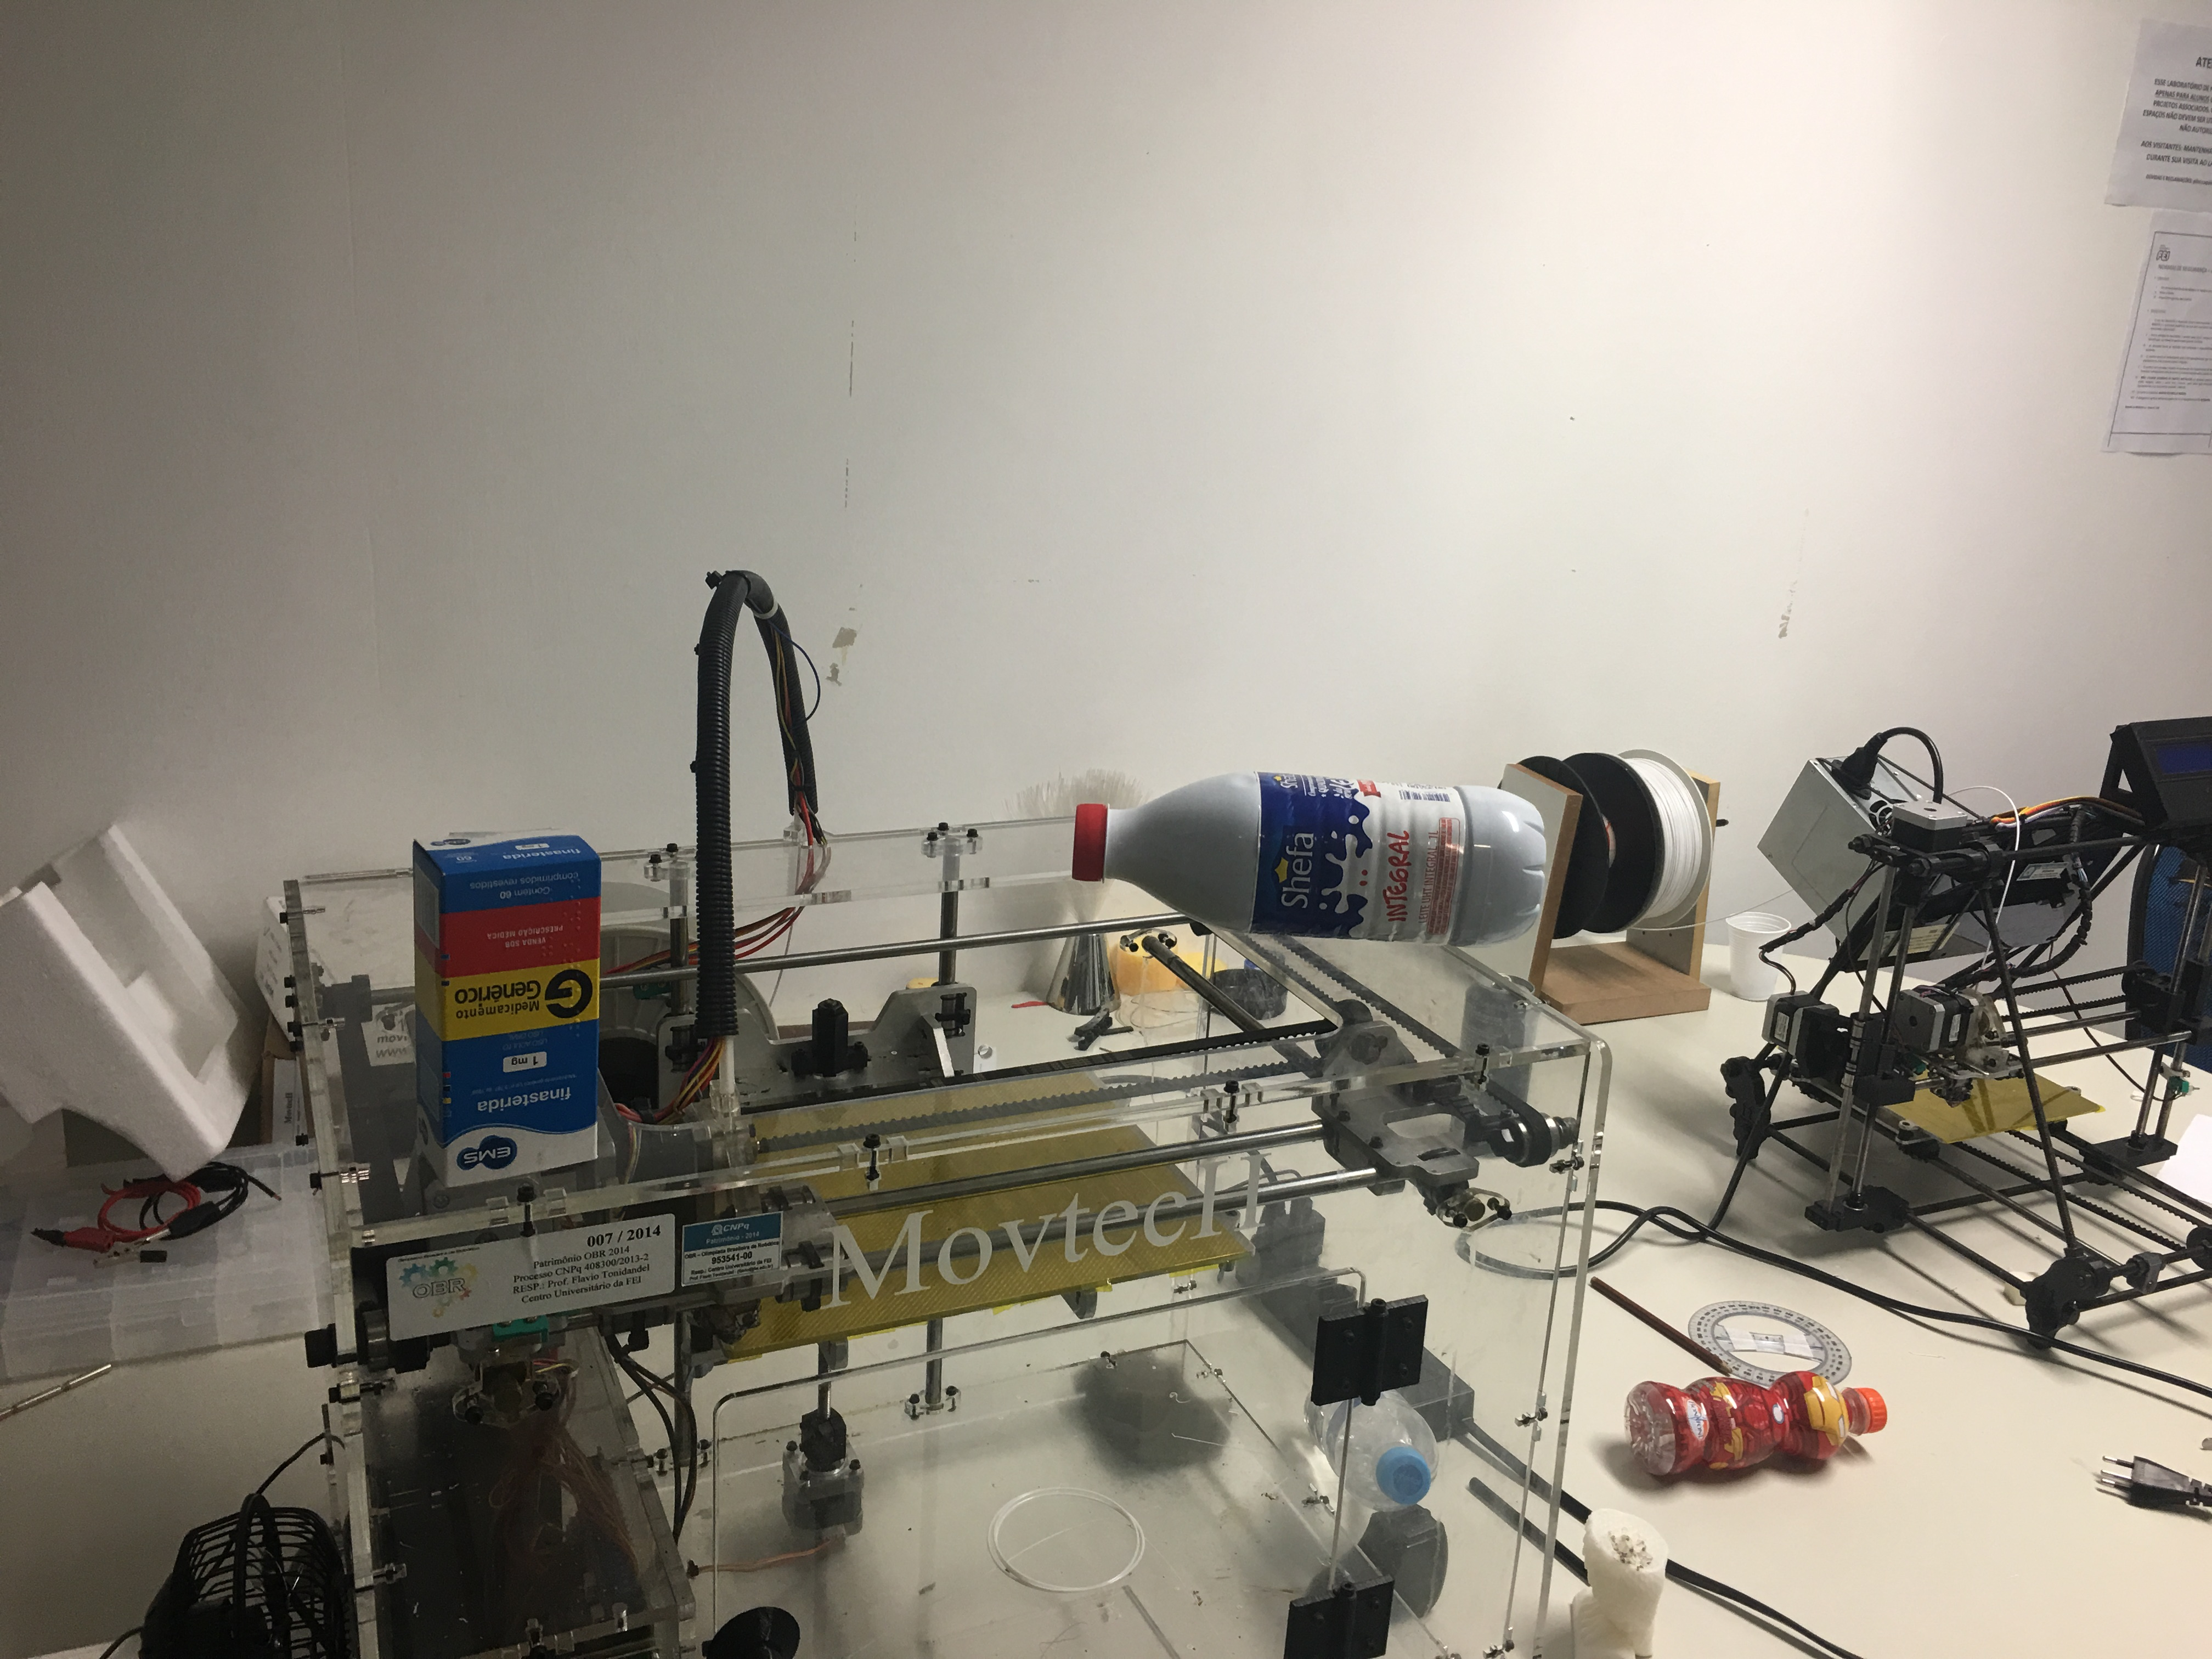iron_man: (1627, 1368, 1895, 1485)
medicine: (400, 826, 614, 1197)
milk_bottle: (1059, 768, 1553, 952)
